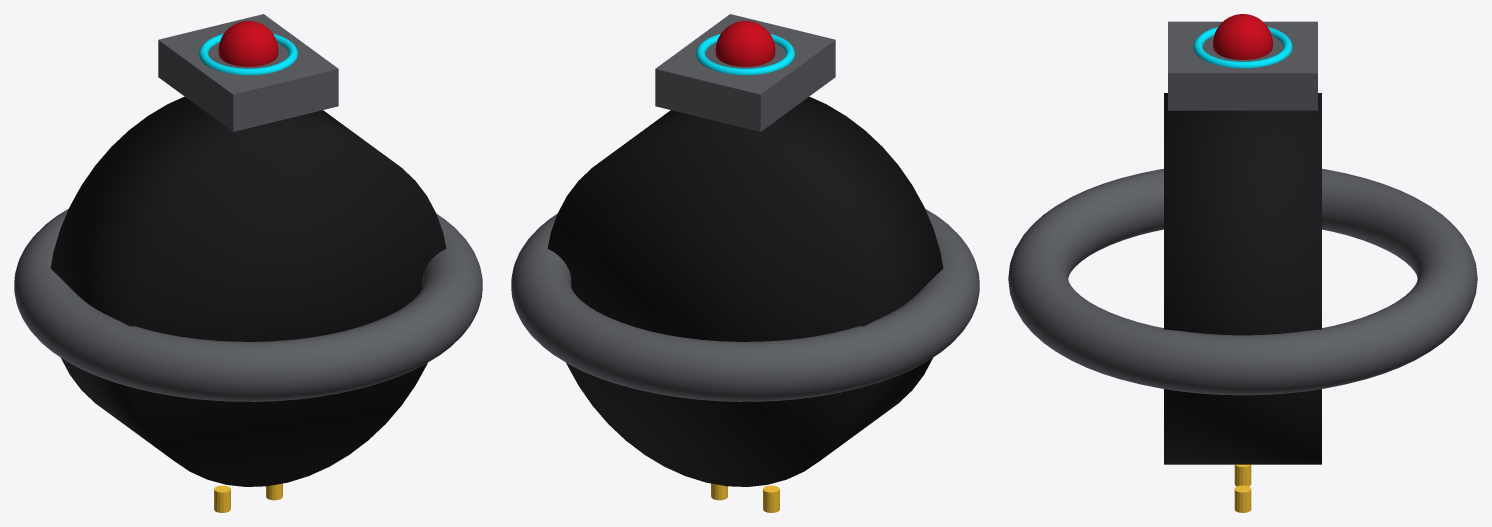
The model's file is concept_1_airring_pro.obj.
3 renders of one model, left to right at view 1: azimuth 30°, elevation 25°; view 2: azimuth 150°, elevation 25°; view 3: azimuth 270°, elevation 25°, orthographic.
Visible parts, largest first — view 1: AirRing_InnerLiner_PEEK, AirRing_OuterBand_Titanium, AirRing_TopFacet, AirRing_OpticalTrackball_Ruby, AirRing_LED_Accent; view 2: AirRing_InnerLiner_PEEK, AirRing_OuterBand_Titanium, AirRing_TopFacet, AirRing_OpticalTrackball_Ruby, AirRing_LED_Accent; view 3: AirRing_OuterBand_Titanium, AirRing_InnerLiner_PEEK, AirRing_TopFacet, AirRing_OpticalTrackball_Ruby, AirRing_LED_Accent.
Part boxes in pixels (left/top/right/bottom): AirRing_InnerLiner_PEEK: left=50, top=96, right=446, bottom=486; AirRing_OuterBand_Titanium: left=14, top=208, right=482, bottom=401; AirRing_TopFacet: left=158, top=14, right=338, bottom=131; AirRing_OpticalTrackball_Ruby: left=218, top=21, right=278, bottom=66; AirRing_LED_Accent: left=199, top=33, right=297, bottom=75; AirRing_InnerLiner_PEEK: left=547, top=96, right=943, bottom=486; AirRing_OuterBand_Titanium: left=511, top=208, right=979, bottom=401; AirRing_TopFacet: left=655, top=14, right=835, bottom=131; AirRing_OpticalTrackball_Ruby: left=715, top=21, right=775, bottom=66; AirRing_LED_Accent: left=696, top=33, right=794, bottom=75; AirRing_OuterBand_Titanium: left=1008, top=168, right=1477, bottom=395; AirRing_InnerLiner_PEEK: left=1164, top=93, right=1321, bottom=464; AirRing_TopFacet: left=1168, top=21, right=1317, bottom=110; AirRing_OpticalTrackball_Ruby: left=1213, top=14, right=1272, bottom=59; AirRing_LED_Accent: left=1193, top=26, right=1292, bottom=68.
Bounding box in the file's own units: 0.025 × 0.0282 × 0.025.
